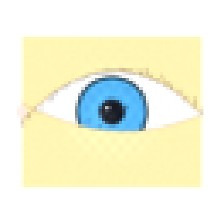pterygium_lesion: (22, 92, 73, 132)
